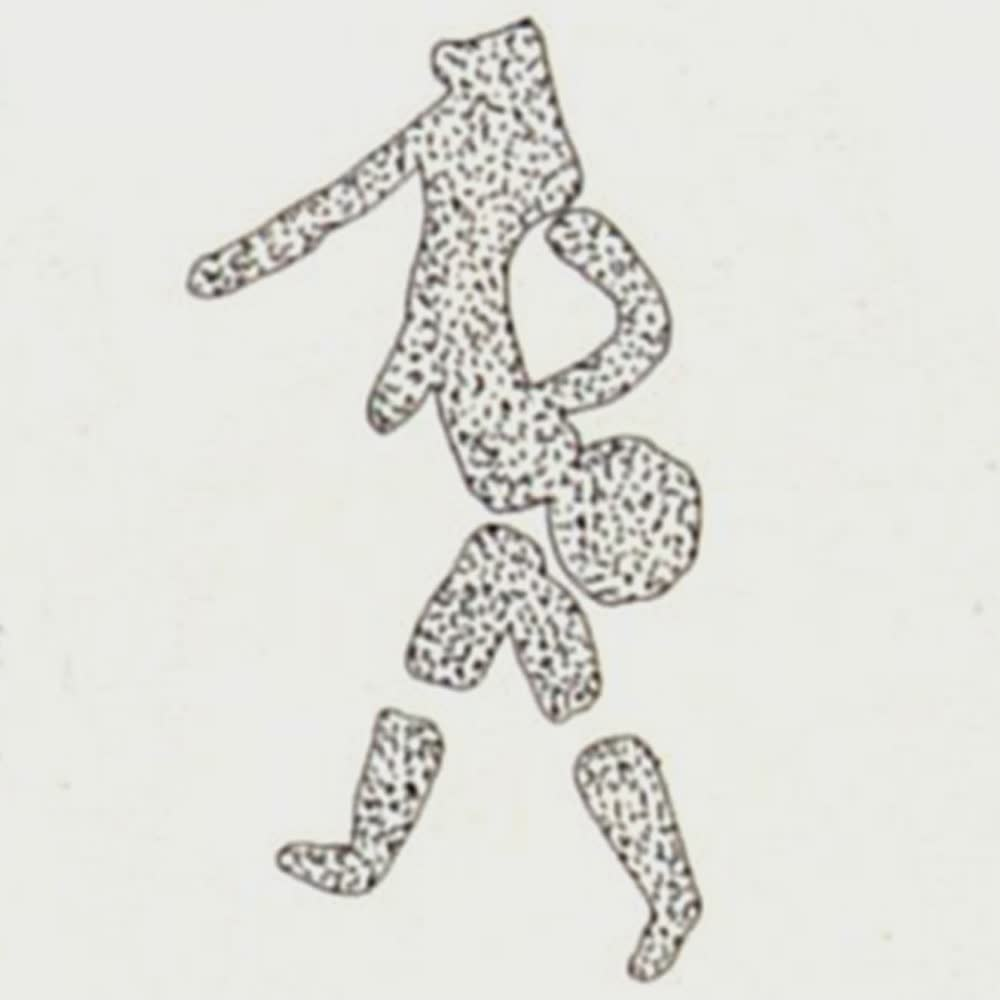woman: (181, 16, 706, 990)
